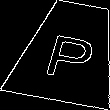P_N: (39, 24, 99, 81)
